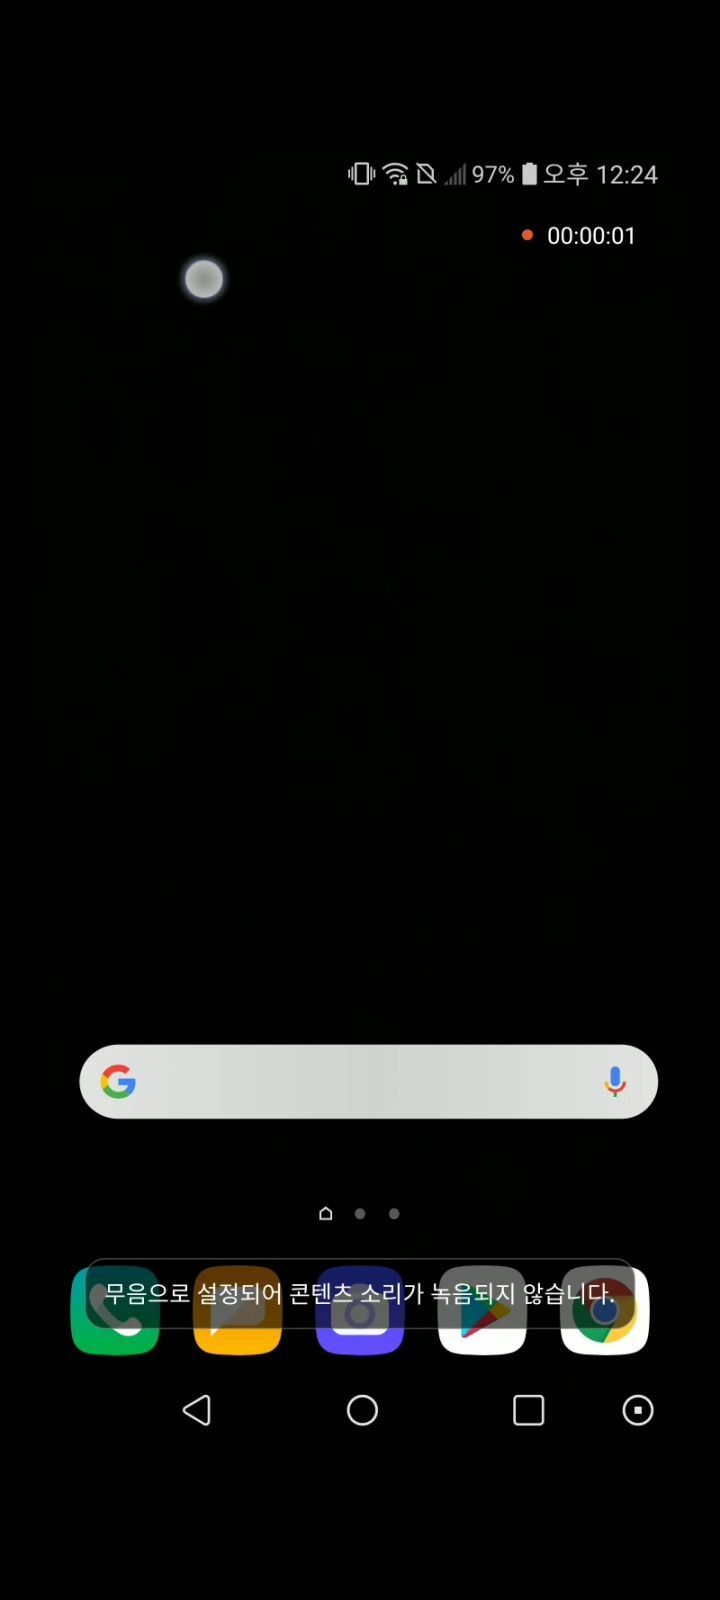Cursor: (182, 259, 227, 304)
